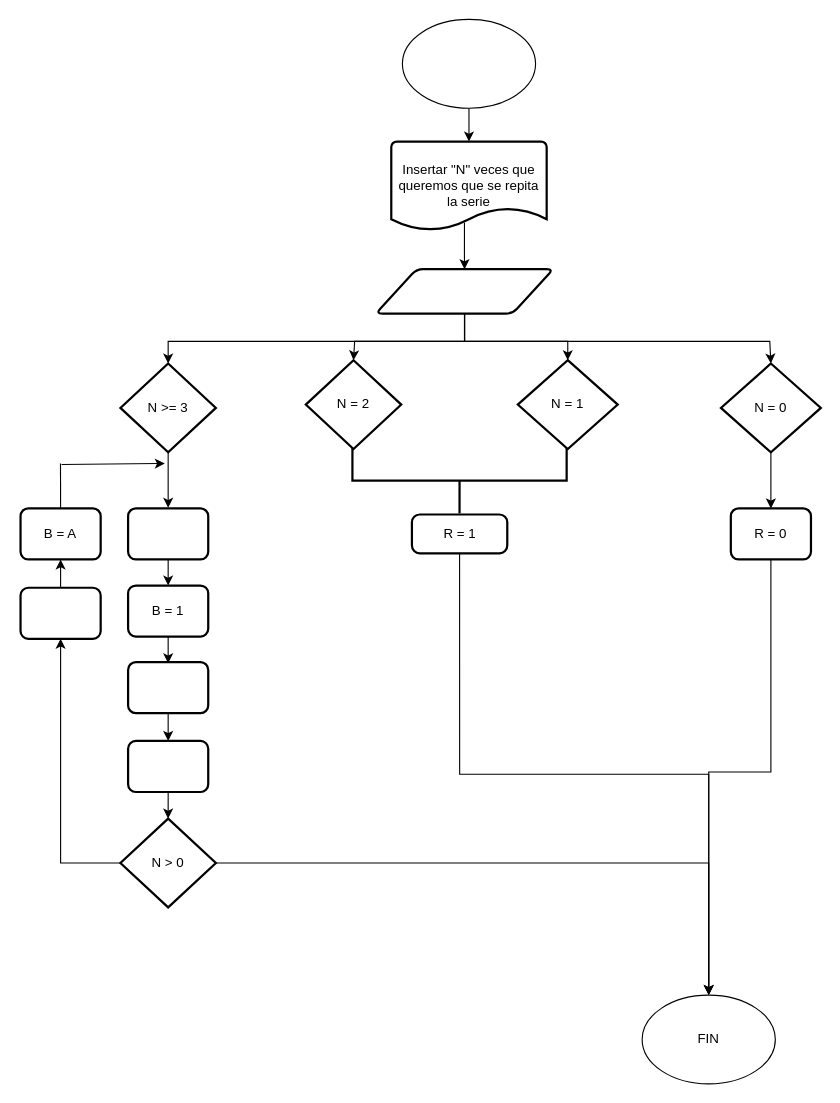
Image size: 840x1103. Some labels were removed from this diagram. Here are the shapes that lost their labels. From the top down, the box of each, then its label:
(401, 18, 536, 108): INICIO
(374, 268, 554, 314): Leer N
(126, 507, 209, 560): A = 0
(19, 586, 101, 639): R = B
(126, 660, 209, 714): R = A + B
(126, 739, 209, 793): N = N - 1
